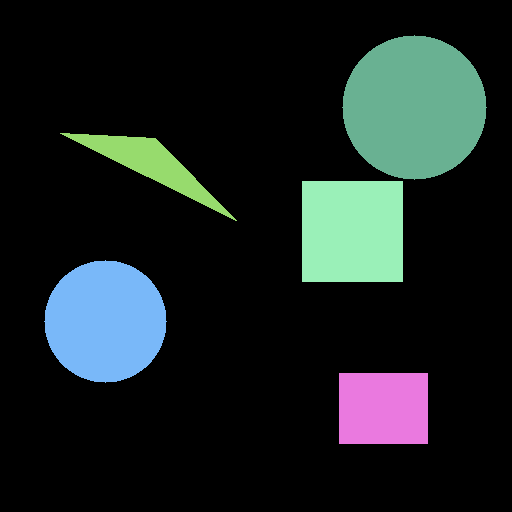circle: (342, 35, 486, 179), (44, 260, 166, 382)
rectangle: (339, 373, 427, 443)
square: (302, 181, 402, 281)
triangle: (60, 133, 236, 220)
